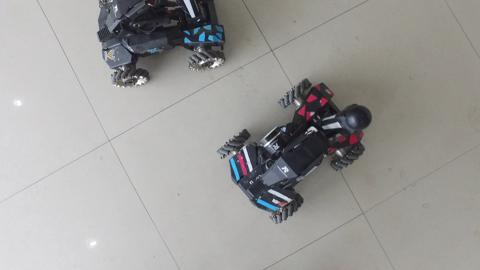chariot: (203, 77, 387, 228), (89, 1, 229, 96)
